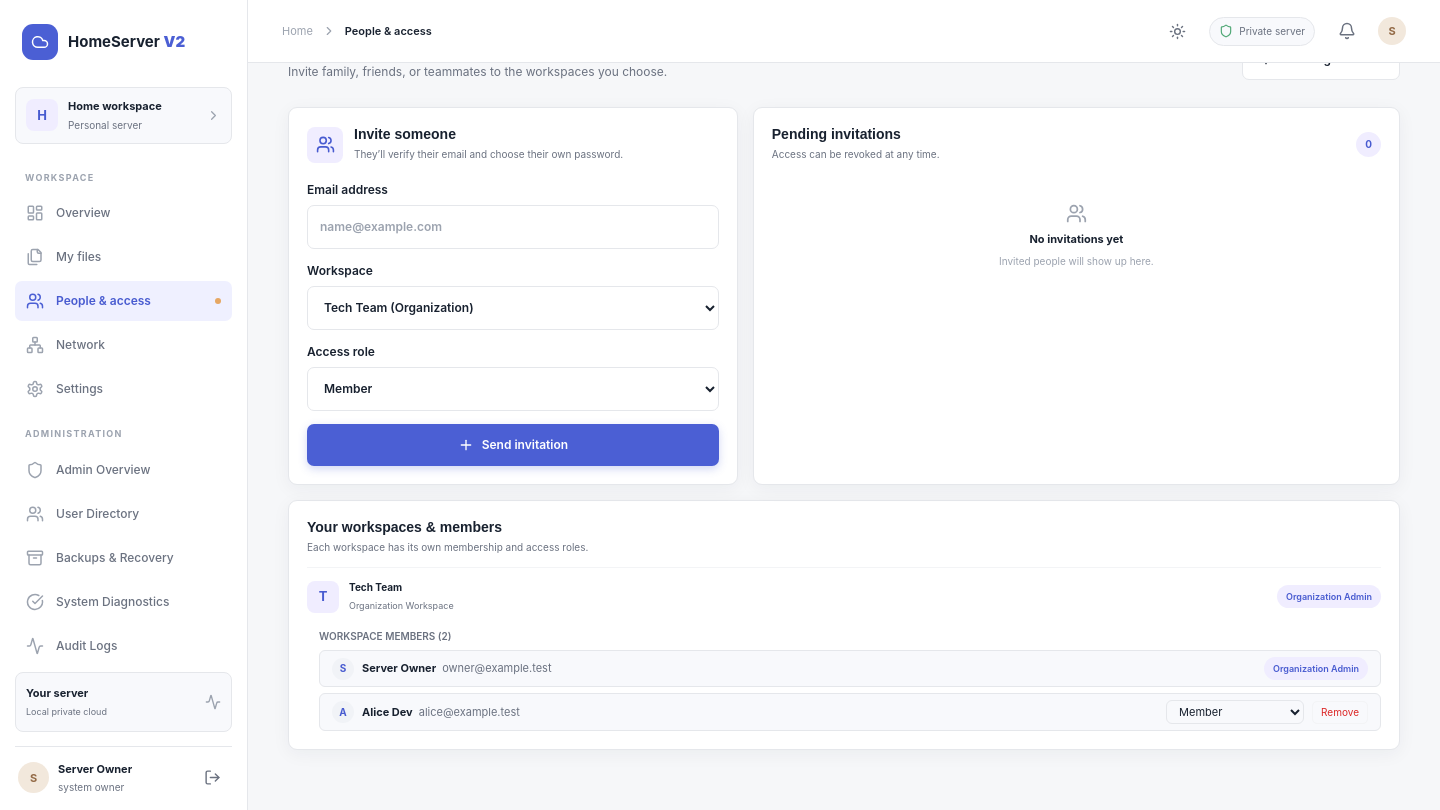
it: HomeServer V2 user flows › allows promoting member to Workspace Admin in organization workspace
The image size is (1440, 810).
(page scrolled)
Expected: the heading "Your workspaces & members" is shown, [307,519,502,535]
Select "Workspace Admin" in the dropdown named "Role for Alice Dev" at (1235, 712), box [1166,700,1304,724]
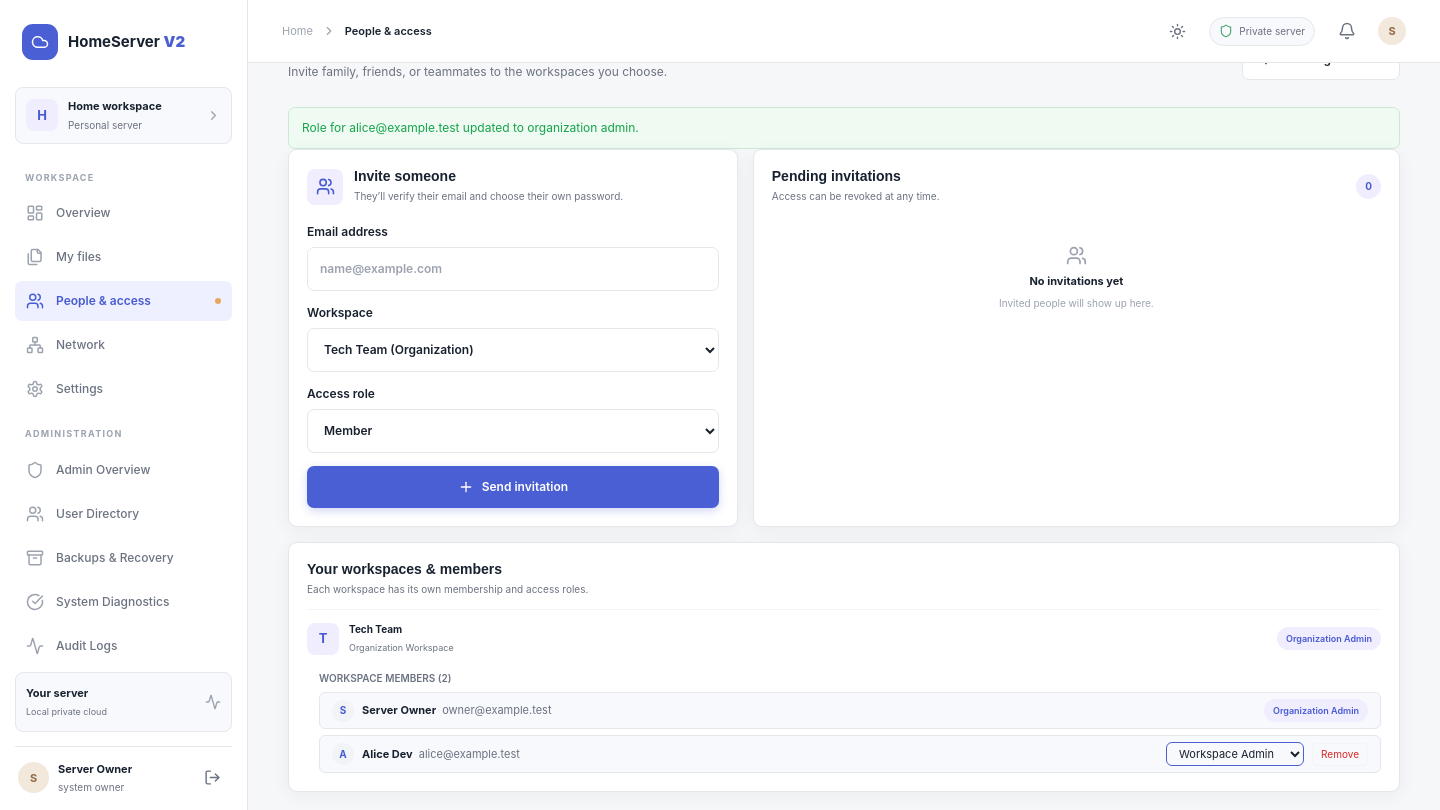
Now the text "Role for alice@example.test updated to organization admin." is shown, box [288,107,1400,149]
